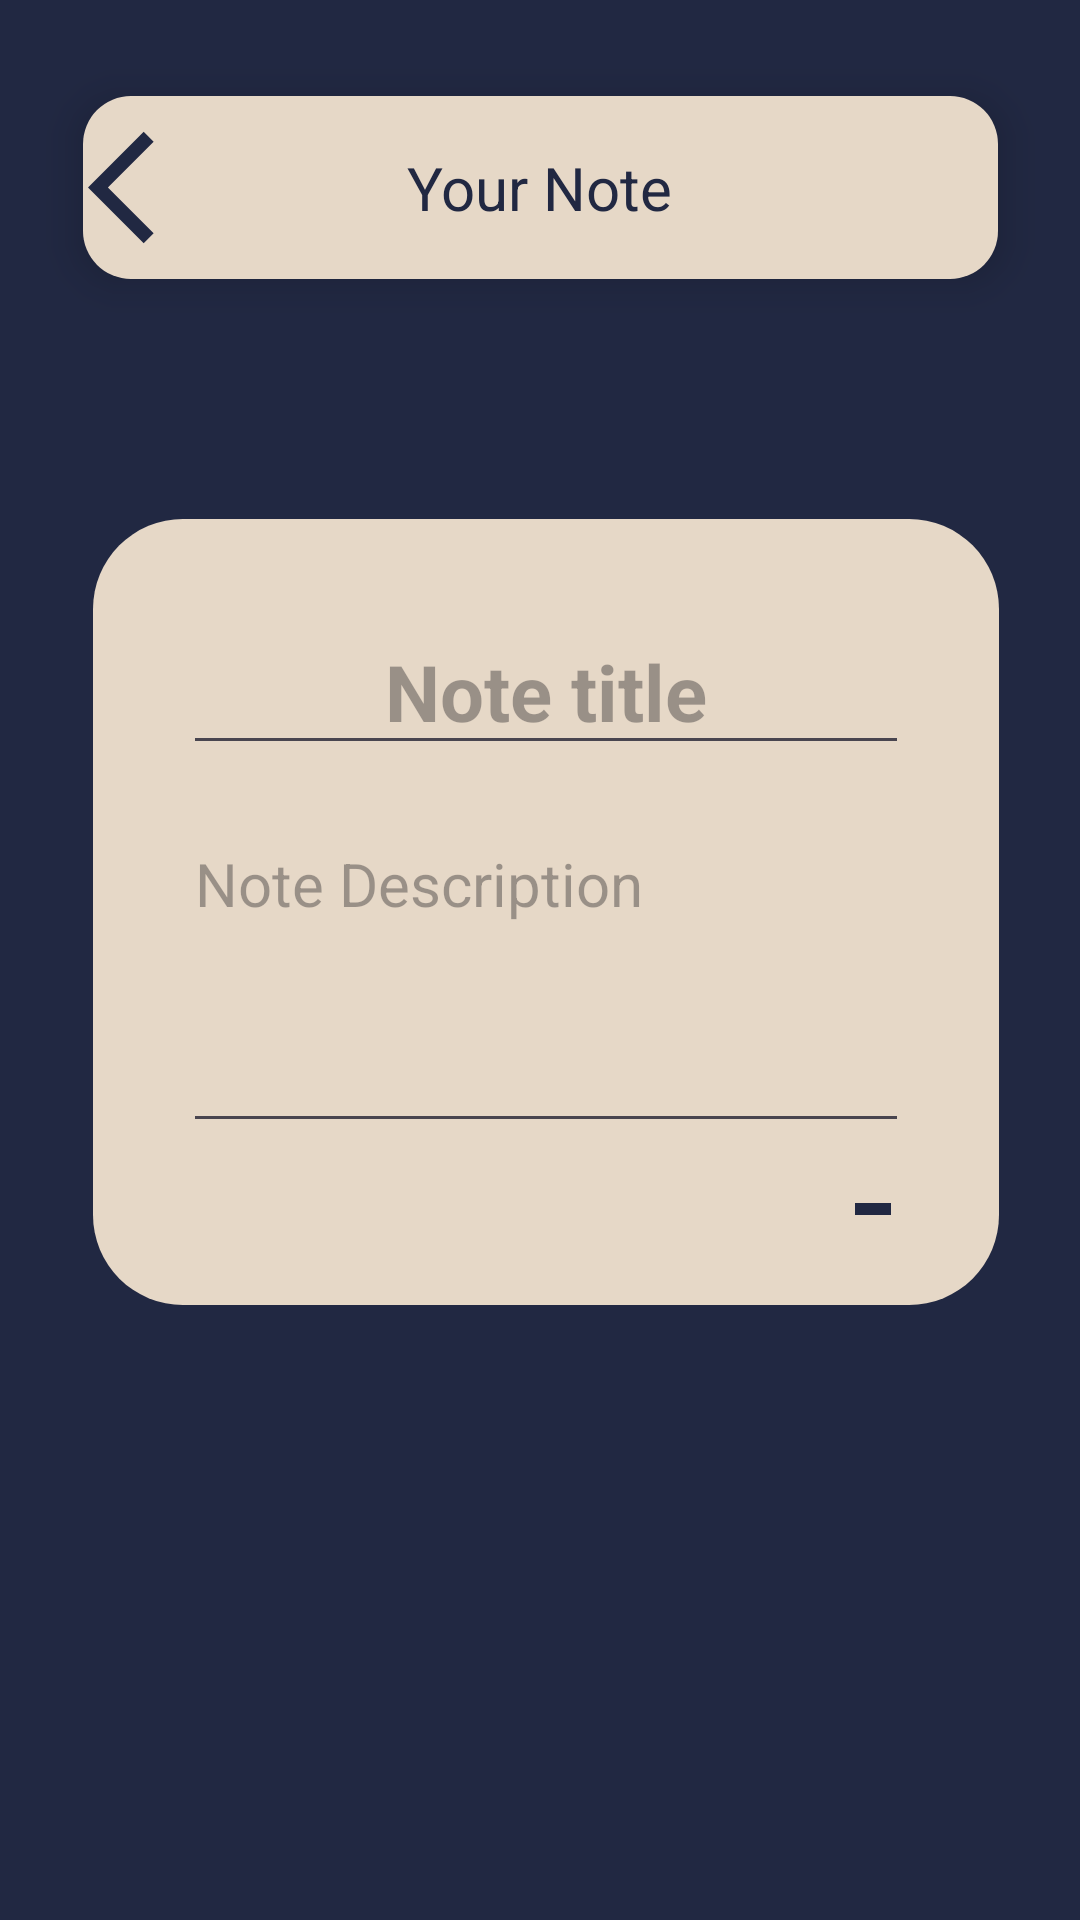

Icons on this 1080px x 1920px Android screen, each with the point to tap as (x,y):
Back: (121,187)
